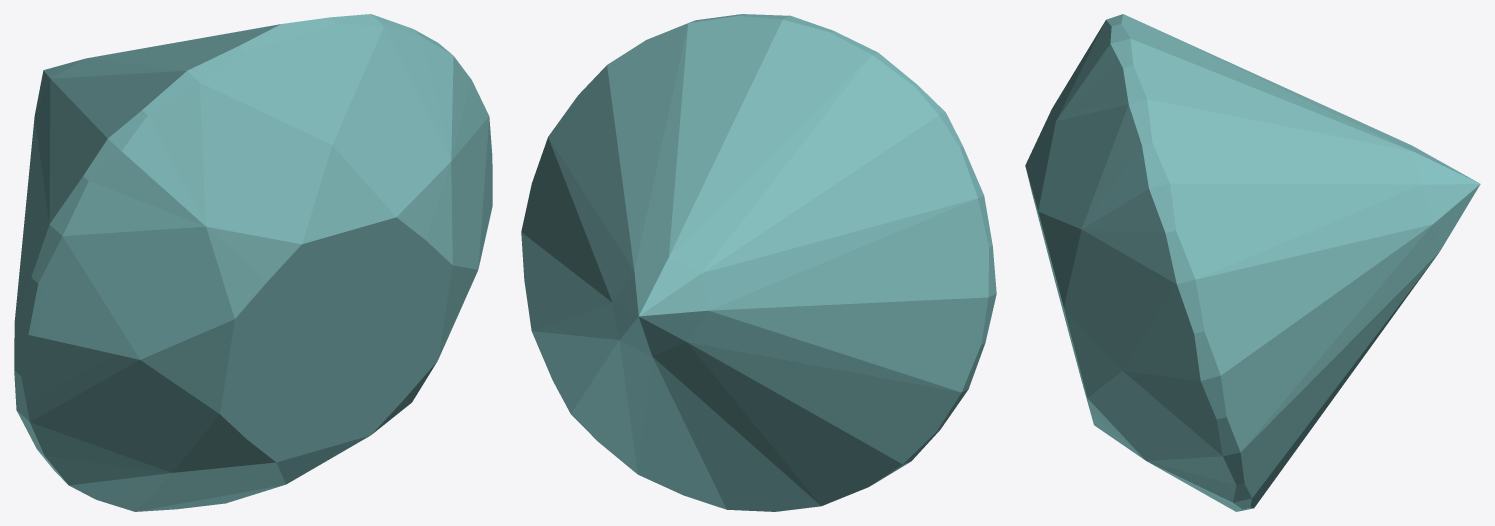
The model's file is BR1_8shapes_Round_Classic_Stone.001 2.glb.
3 renders of one model, left to right at view 1: azimuth 30°, elevation 25°; view 2: azimuth 150°, elevation 25°; view 3: azimuth 270°, elevation 25°, orthographic. The views are drawn at different scales.
Visible parts, largest first — view 1: BR1_8shapes_Round_Classic_Stone.001; view 2: BR1_8shapes_Round_Classic_Stone.001; view 3: BR1_8shapes_Round_Classic_Stone.001.
Boxes of the visible parts, <box> form: BR1_8shapes_Round_Classic_Stone.001: <box>14,14,492,511</box>; BR1_8shapes_Round_Classic_Stone.001: <box>521,14,996,511</box>; BR1_8shapes_Round_Classic_Stone.001: <box>1025,14,1480,511</box>.
Bounding box in the file's own units: 0.452 × 0.446 × 0.4084.
